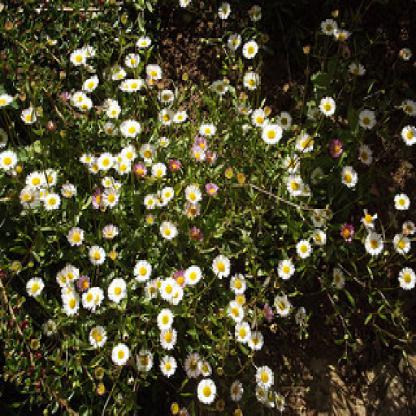ASTER: (4, 13, 412, 407)
